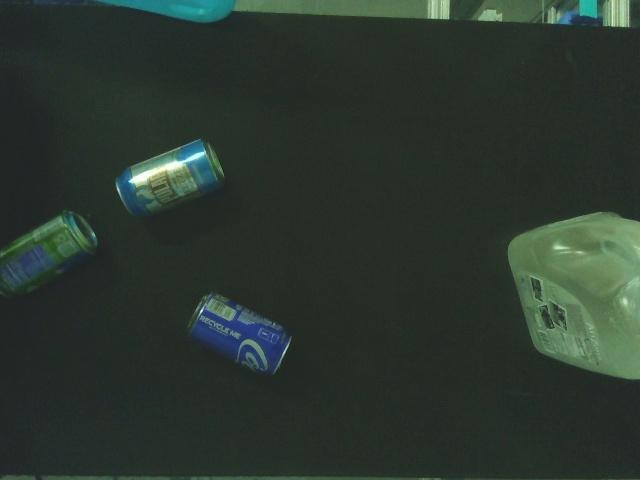metal: (177, 288, 302, 390), (105, 132, 237, 224), (0, 207, 105, 314)
plastic: (496, 206, 637, 385)
